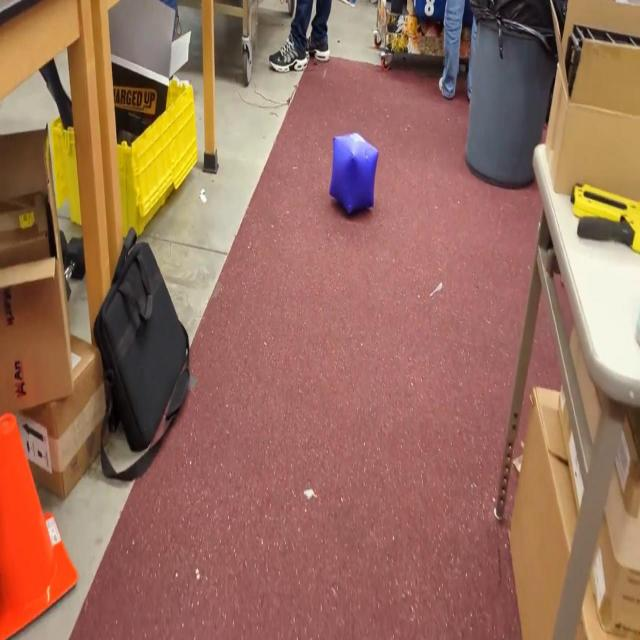frc_cube: (329, 126, 379, 220)
